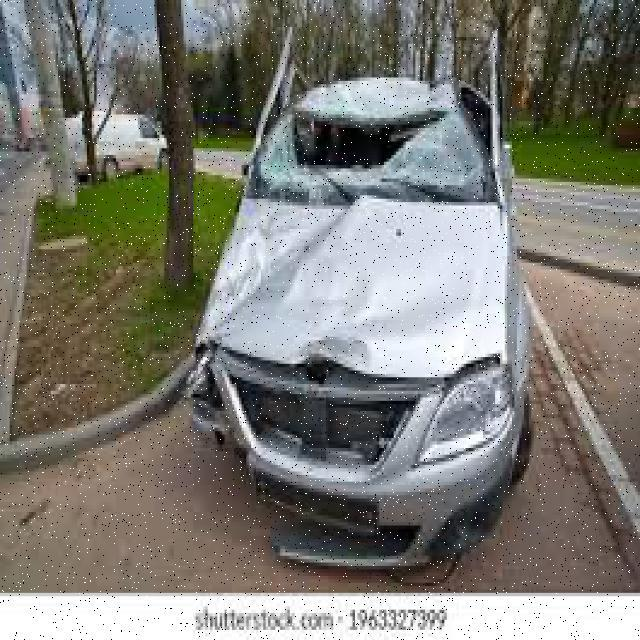Front-Windscreen-Damage: (241, 74, 500, 202)
bonnet-dent: (193, 199, 516, 388)
front-bumper-dent: (188, 387, 522, 566)
